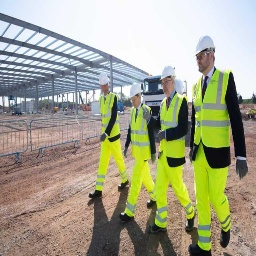helmet: (192, 36, 217, 59), (158, 63, 176, 81), (126, 84, 142, 99), (95, 72, 108, 88)
person: (188, 36, 244, 252), (152, 63, 196, 240), (124, 82, 162, 211), (94, 69, 126, 192)
vest: (188, 69, 242, 159), (158, 97, 188, 168), (128, 105, 156, 168), (98, 93, 124, 144)
